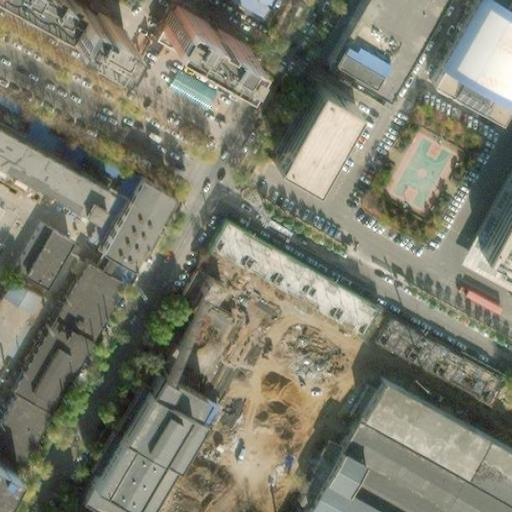building: (351, 372, 512, 509), (296, 417, 512, 512), (8, 251, 132, 412), (77, 368, 212, 512), (322, 0, 439, 100), (425, 0, 512, 126), (273, 80, 354, 178), (95, 179, 169, 269), (151, 23, 233, 81), (369, 315, 443, 376), (10, 218, 67, 281), (59, 1, 124, 56), (289, 437, 335, 503), (166, 62, 221, 107), (456, 278, 505, 315), (256, 251, 294, 297), (311, 289, 358, 326), (286, 267, 327, 306), (445, 366, 485, 402), (207, 225, 241, 261), (391, 336, 428, 369), (227, 242, 265, 274), (0, 461, 22, 511), (345, 375, 372, 408), (428, 356, 456, 386), (193, 276, 219, 303), (473, 382, 497, 409), (345, 307, 368, 332)
